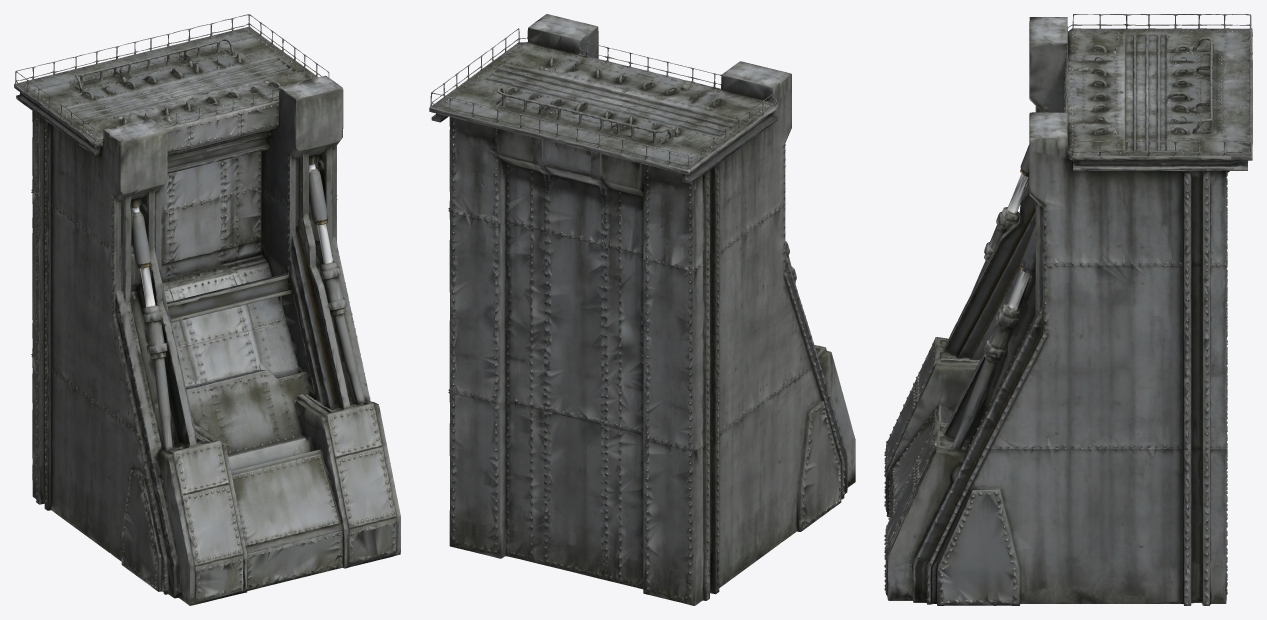
Rendered from dam_gate.glb.
3 views of the same model, side by side, from view 1: azimuth 30°, elevation 25°; view 2: azimuth 150°, elevation 25°; view 3: azimuth 270°, elevation 25° (orthographic). The views are drawn at different scales.
Parts seen in each view (by area): view 1: dam_gate; view 2: dam_gate; view 3: dam_gate.
Boxes of the visible parts, <box> form: dam_gate: <box>14,14,400,605</box>; dam_gate: <box>429,14,855,605</box>; dam_gate: <box>884,14,1252,605</box>.
Bounding box in the file's own units: 1.12 × 1.9 × 1.36.
Materials: 1 (1 with a texture image).
